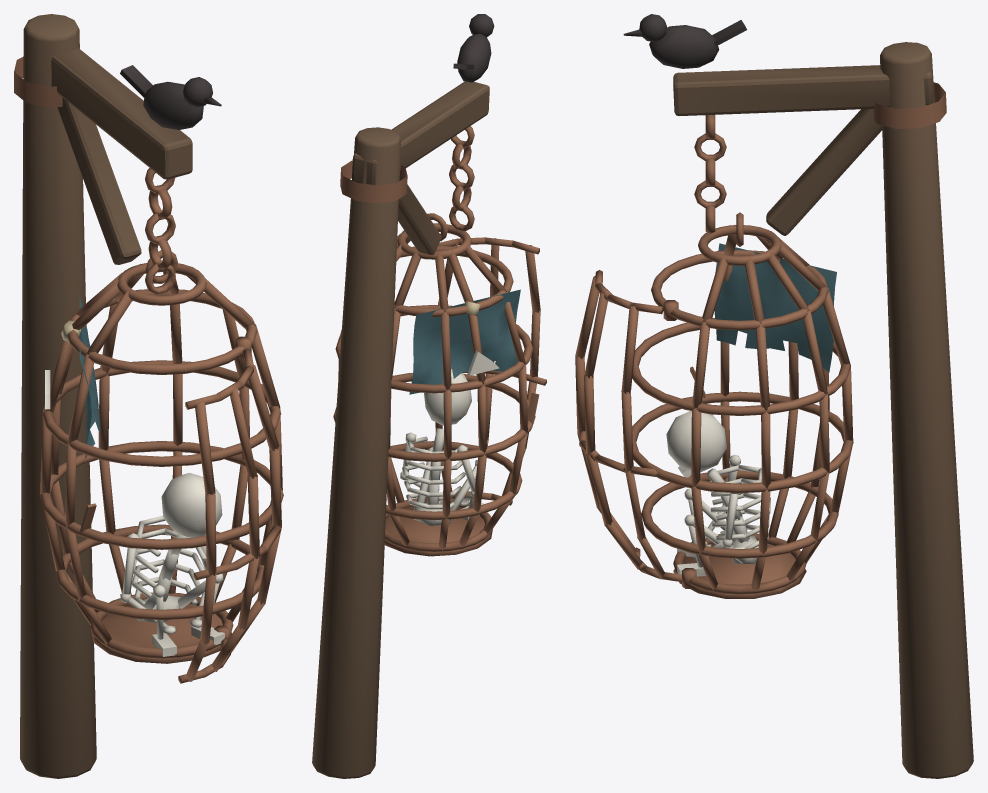
Rendered from gibbet_cage.glb.
3 renders of one model, left to right at view 1: azimuth 30°, elevation 25°; view 2: azimuth 150°, elevation 25°; view 3: azimuth 270°, elevation 25°, orthographic. The views are drawn at different scales.
Visible parts, largest first — view 1: gibbet_cage; view 2: gibbet_cage; view 3: gibbet_cage.
Boxes of the visible parts, x1,y1,x2,y2 form: gibbet_cage: [14, 14, 283, 778]; gibbet_cage: [312, 14, 546, 778]; gibbet_cage: [575, 14, 973, 778].
Bounding box in the file's own units: 0.92 × 3.33 × 1.61.
